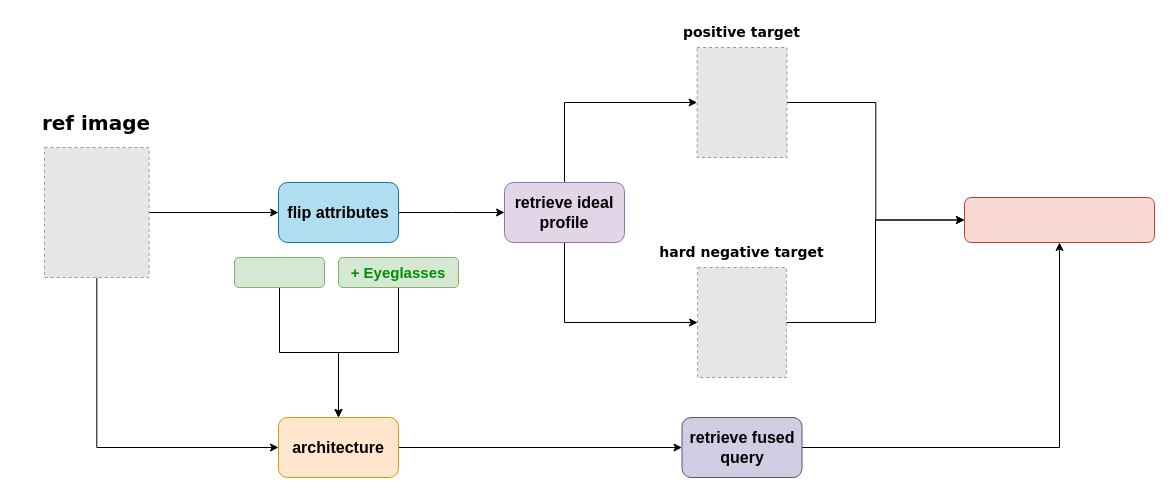
Image size: 1173x495. Some labels were removed from this diagram. Grey dashed boxes stand in for pictures. The shapes that lost their labels are listed below. From the top down, each one's centre as x and y in pixels, then its label:
At (x=1059, y=219): "InfoNCE".
At (x=279, y=272): "+ Smiling".
